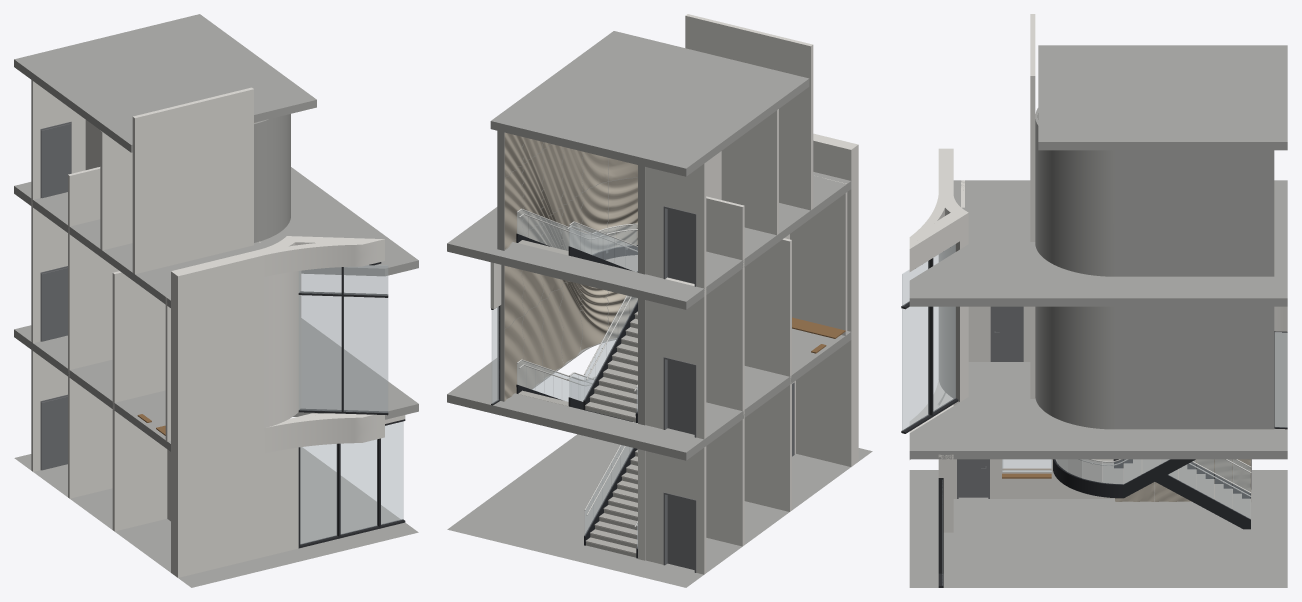
Rendered from opera_stair.glb.
The picture shows the model from 3 angles, left to right: view 1: azimuth 30°, elevation 25°; view 2: azimuth 150°, elevation 25°; view 3: azimuth 270°, elevation 25°; orthographic projection. The views are drawn at different scales.
Visible parts, largest first — view 1: I-WALL (×14), A-FLOR (×7), GLASS_EXT (×7), SPEC (×6); view 2: A-FLOR (×8), I-WALL (×11), WAVE 1 (×18), SPEC (×9), STAIR TREADS AND LANDING (×2), Layer 02, System Panel, 12_Counter_Straight; view 3: A-FLOR (×8), I-WALL (×9), GLASS_EXT (×2), STAIR TREADS AND LANDING (×3), 08_Door_Single_Frame Type 2 (×2), STAIR STRINGERS (×3), System Panel, Rectangular Mullion (×2), Fixed, WAVE 1, STAIR GLASS RAILING.
Boxes of the visible parts, <box> form: I-WALL (×14): <box>31,80,405,577</box>; A-FLOR (×7): <box>14,14,418,587</box>; GLASS_EXT (×7): <box>299,265,403,544</box>; SPEC (×6): <box>41,123,71,470</box>; A-FLOR (×8): <box>447,31,851,587</box>; I-WALL (×11): <box>645,14,858,574</box>; WAVE 1 (×18): <box>504,132,637,400</box>; SPEC (×9): <box>663,206,696,572</box>; STAIR TREADS AND LANDING (×2): <box>585,311,637,557</box>; Layer 02: <box>638,449,645,560</box>; System Panel: <box>491,306,499,403</box>; 12_Counter_Straight: <box>792,317,845,338</box>; A-FLOR (×8): <box>909,45,1287,587</box>; I-WALL (×9): <box>909,14,1114,532</box>; GLASS_EXT (×2): <box>902,306,955,430</box>; STAIR TREADS AND LANDING (×3): <box>1056,459,1250,518</box>; 08_Door_Single_Frame Type 2 (×2): <box>958,306,1021,497</box>; STAIR STRINGERS (×3): <box>1053,459,1250,529</box>; System Panel: <box>1274,332,1287,427</box>; Rectangular Mullion (×2): <box>928,306,943,573</box>; Fixed: <box>1004,459,1049,470</box>; WAVE 1: <box>1194,459,1233,482</box>; STAIR GLASS RAILING: <box>1102,459,1123,484</box>.
Size of the model in its own units: 0.1932 by 0.3478 by 0.2671.
